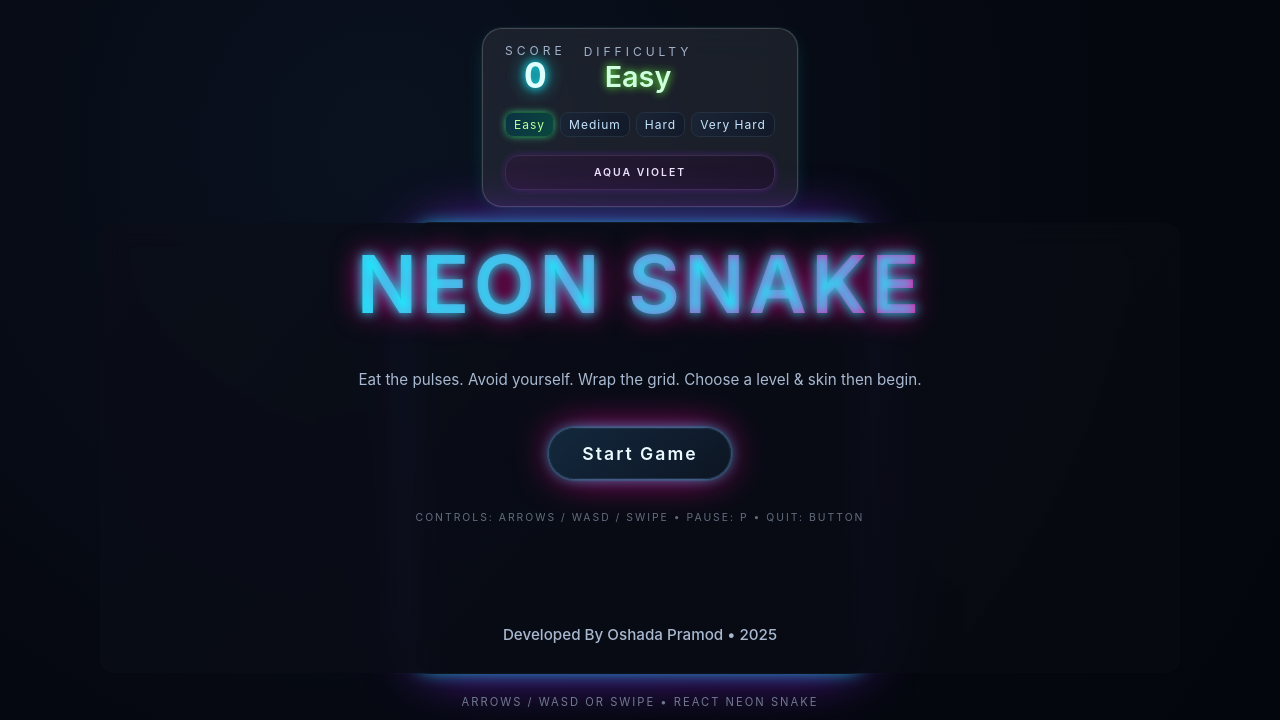
Scenario: SnakeGame › renders start screen and starts game
The width and height of the screenshot is (1280, 720).
expect the heading "NEON SNAKE" is shown: met, box [356,235,924,332]
What coordinates should you click on to do the following:
click the button "Start Game"
I would click on:
 (640, 453)
Its box is [549,428,731,479].
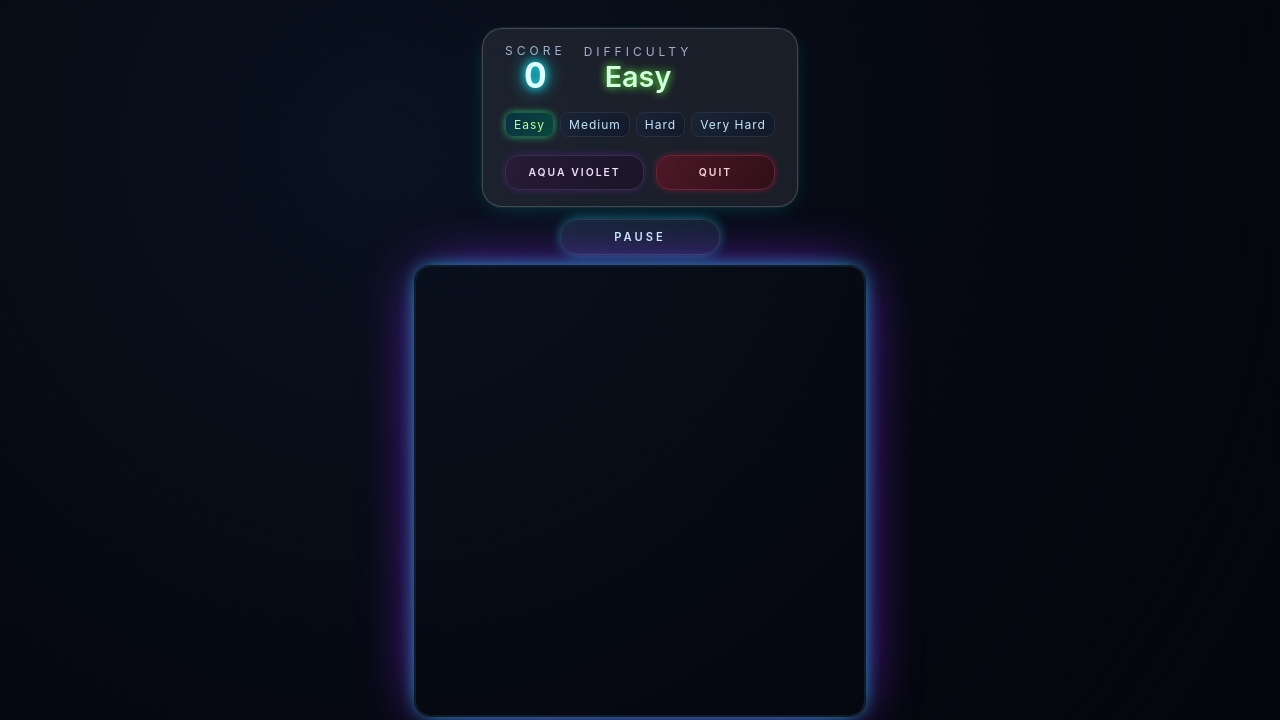
expect the text "SCORE" is shown: met, box [505,43,566,58]
expect the button "Start Game" is gone: met
